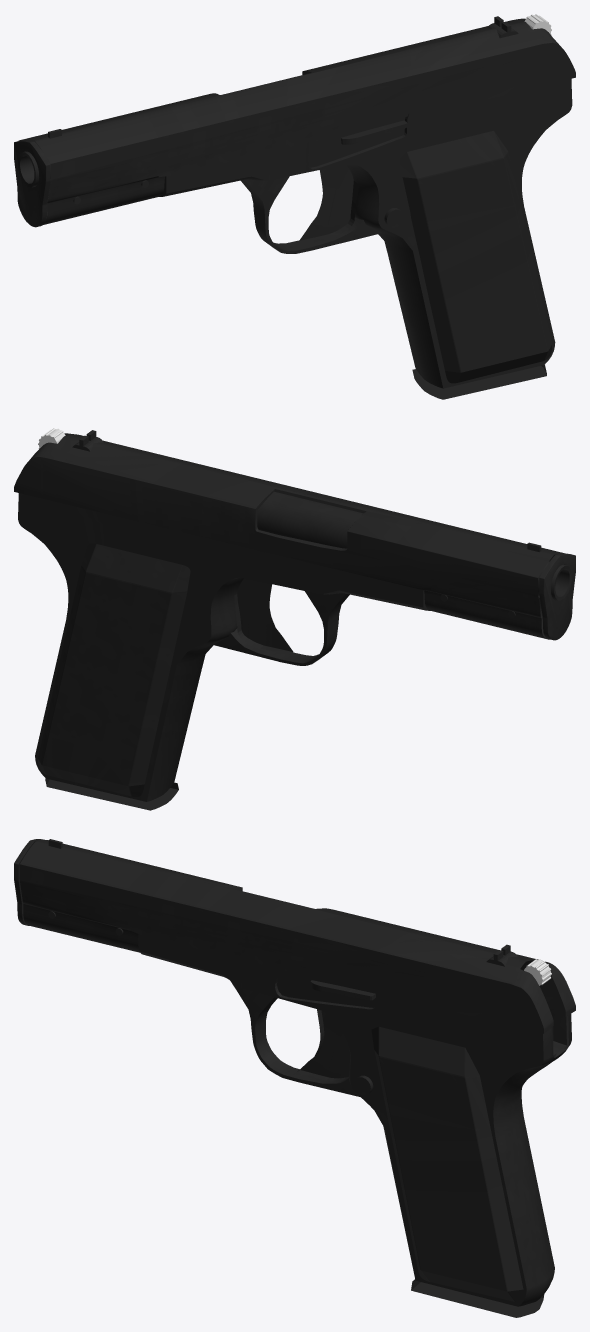
3 views of the same model, one above another, from view 1: azimuth 30°, elevation 25°; view 2: azimuth 150°, elevation 25°; view 3: azimuth 330°, elevation 25° (orthographic).
Visible parts, largest first — view 1: Рамка.001, Рамка.002, Рамка.005, Рамка.006, Рамка.007; view 2: Рамка.001, Рамка.002, Рамка.005, Рамка.006; view 3: Рамка.001, Рамка.002, Рамка.005, Рамка.006, Рамка.007.
Part boxes in pixels (<box>): Рамка.001: <box>18,78,572,388</box>; Рамка.002: <box>14,16,575,227</box>; Рамка.005: <box>299,164,358,243</box>; Рамка.006: <box>412,365,546,399</box>; Рамка.007: <box>309,114,408,169</box>; Рамка.001: <box>18,491,571,801</box>; Рамка.002: <box>14,430,575,640</box>; Рамка.005: <box>234,578,293,654</box>; Рамка.006: <box>45,778,178,810</box>; Рамка.001: <box>138,934,571,1306</box>; Рамка.002: <box>14,839,575,1033</box>; Рамка.005: <box>296,1009,349,1081</box>; Рамка.006: <box>411,1279,544,1317</box>; Рамка.007: <box>275,977,375,1009</box>.
Bounding box in the file's own units: 4611 × 2896 × 609.
